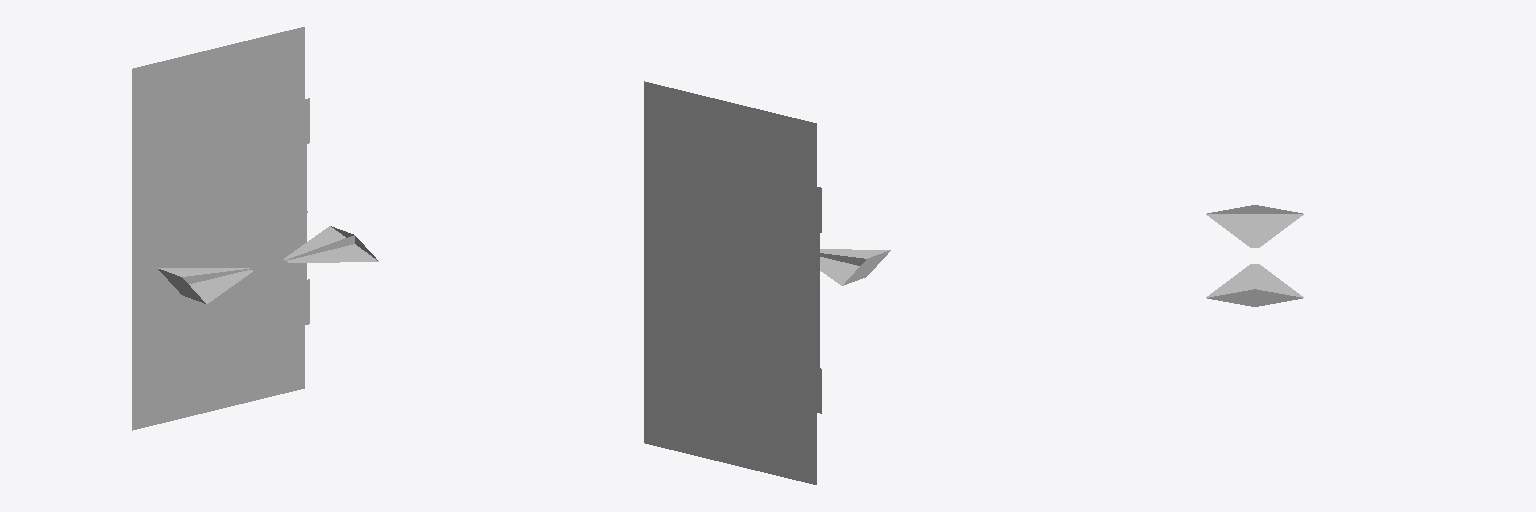
The model's file is DefaultObjContent.obj.
3 renders of one model, left to right at view 1: azimuth 30°, elevation 25°; view 2: azimuth 150°, elevation 25°; view 3: azimuth 270°, elevation 25°, orthographic.
Bounding box in the file's own units: 1 × 2 × 0.75.